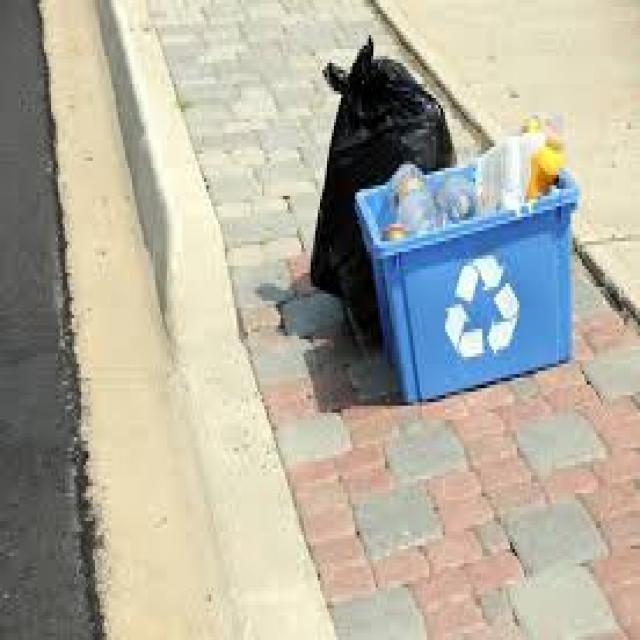garbage: (306, 35, 587, 402)
